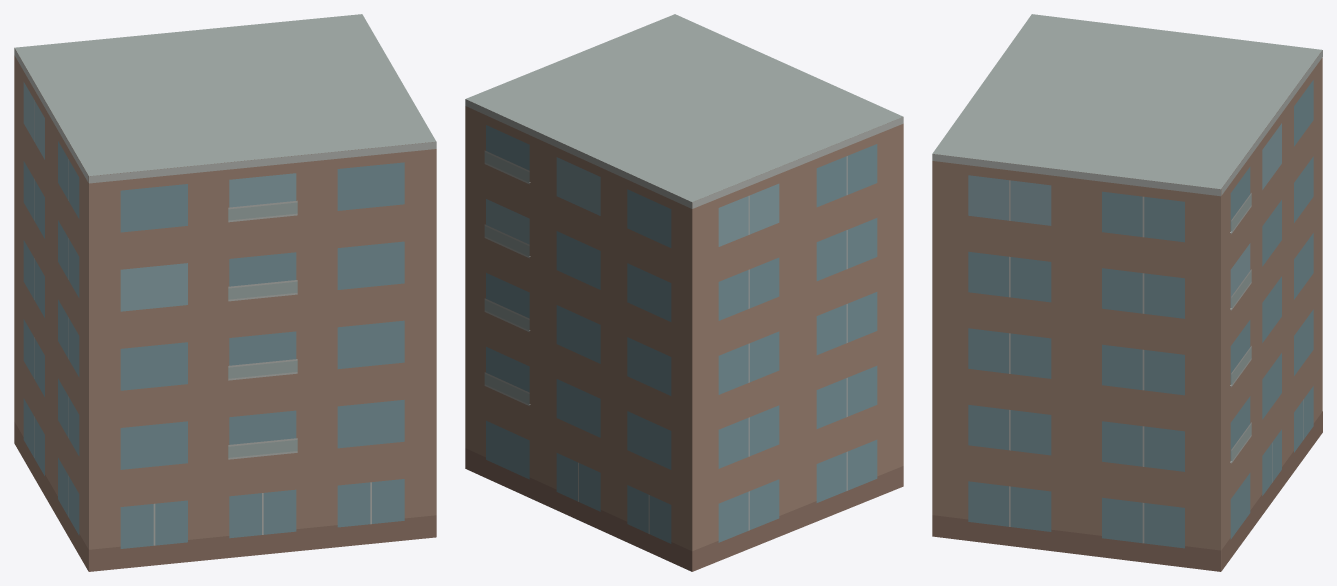
Rendered from survey-upis-32951710.glb.
3 renders of one model, left to right at view 1: azimuth 30°, elevation 25°; view 2: azimuth 150°, elevation 25°; view 3: azimuth 270°, elevation 25°, orthographic. The views are drawn at different scales.
Visible parts, largest first — view 1: survey-upis-32951710.tmp; view 2: survey-upis-32951710.tmp; view 3: survey-upis-32951710.tmp.
Part boxes in pixels (bbox=[...]): survey-upis-32951710.tmp: bbox=[14, 14, 436, 571]; survey-upis-32951710.tmp: bbox=[465, 14, 903, 571]; survey-upis-32951710.tmp: bbox=[932, 14, 1322, 571].
Size of the model in its own units: 12.97 by 13.2 by 12.22.
